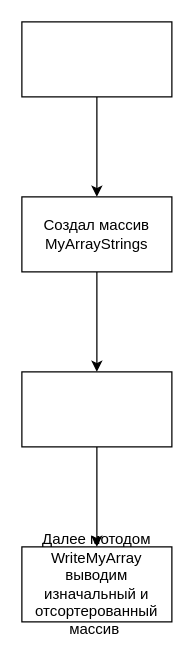
This 194x660 diagram has some shape labels left out. Each missing label, with the centre of its shape:
Start: the point at 96,59
Сортируем данный массив методом selection: the point at 96,409
